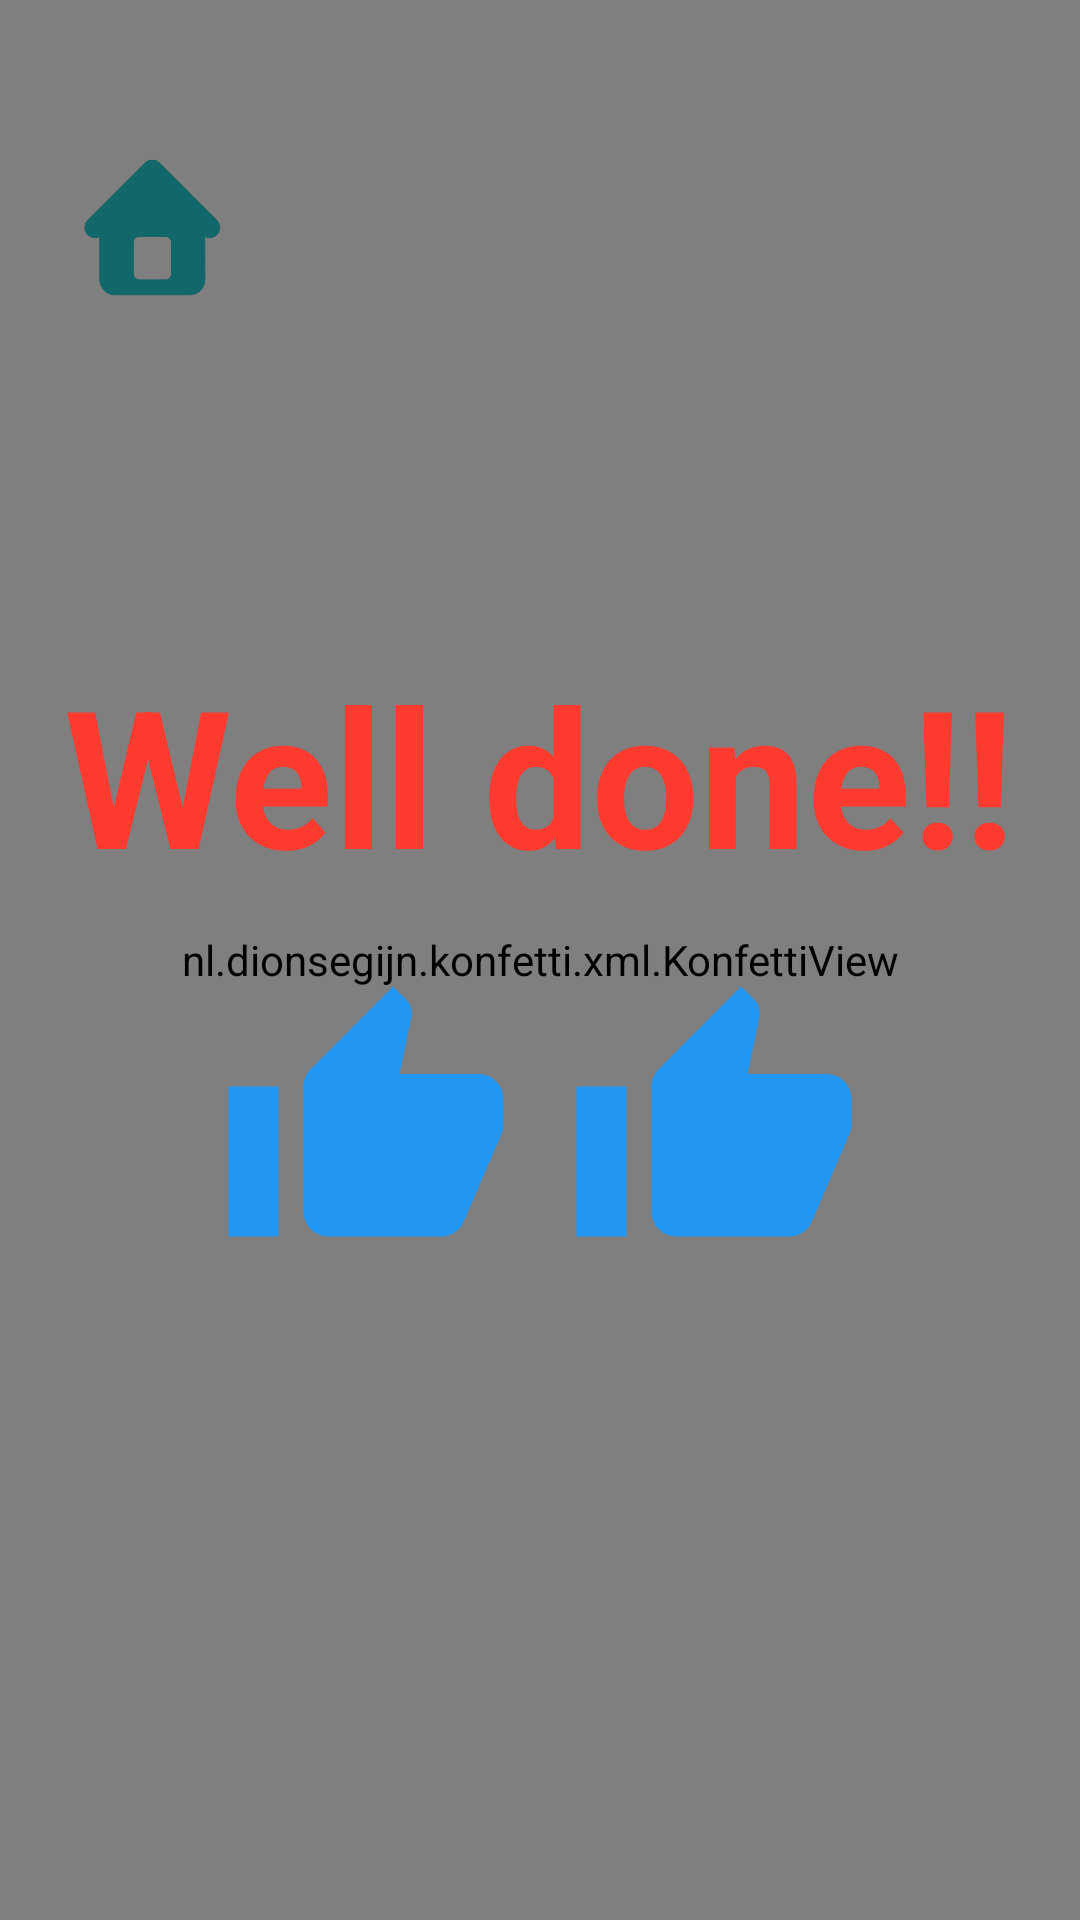

Where icons sit on this 1080 x 1920 app screen, as (x1, y1, x2, y2):
Home Button: (84, 159, 220, 295)
thumb up: (218, 974, 504, 1237), (575, 974, 852, 1237)
